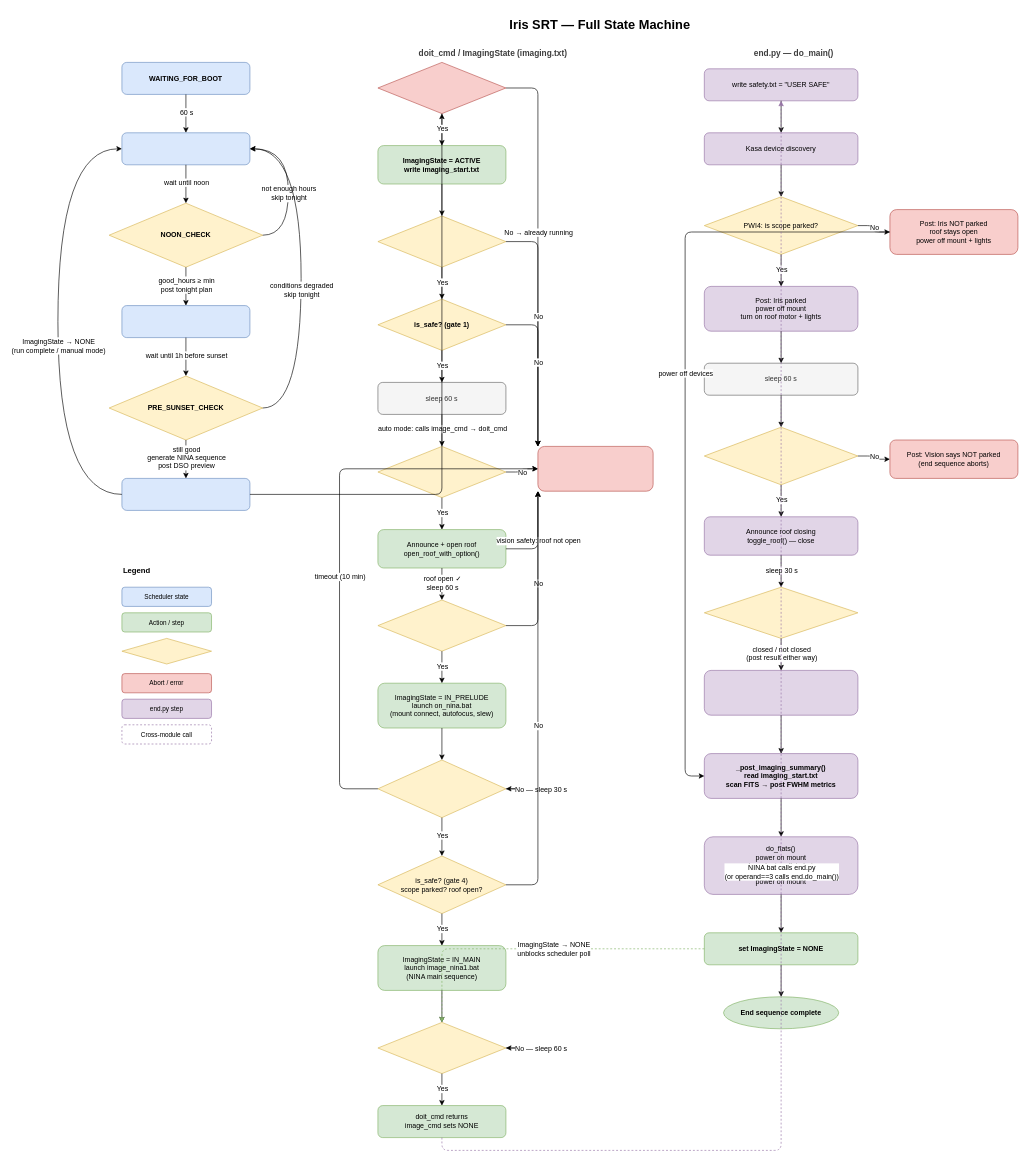
Image size: 1029x1167. Some labels were removed from this diagram. The box of each missing label's shape, as (x1, y1, x2, y2) in pixels:
ABORT (return, roof stays open end.py handles close): (537, 446, 653, 491)
Decision / check: (121, 638, 212, 664)
Dehumidifier ON (Shelly) Lights OFF Roof motor OFF: (704, 670, 858, 715)
IMAGING (scheduler state): (121, 478, 250, 510)
ImagingState = DONE_PRELUDE? (bat sets externally): (377, 759, 506, 818)
ImagingState = NONE?: (377, 62, 506, 114)
ImagingState = NONE? (end.py / bat resets): (377, 1022, 506, 1074)
is_safe? (gate 2): (377, 446, 506, 498)
is_safe? (gate 3): (377, 599, 506, 651)
Roof closed?: (377, 215, 506, 267)
Vision safety: scope parked?: (704, 427, 858, 485)
Vision: roof closed?: (704, 587, 858, 638)
WAITING_FOR_NOON: (121, 132, 250, 165)
WAITING_FOR_PRE_SUNSET: (121, 305, 250, 338)
